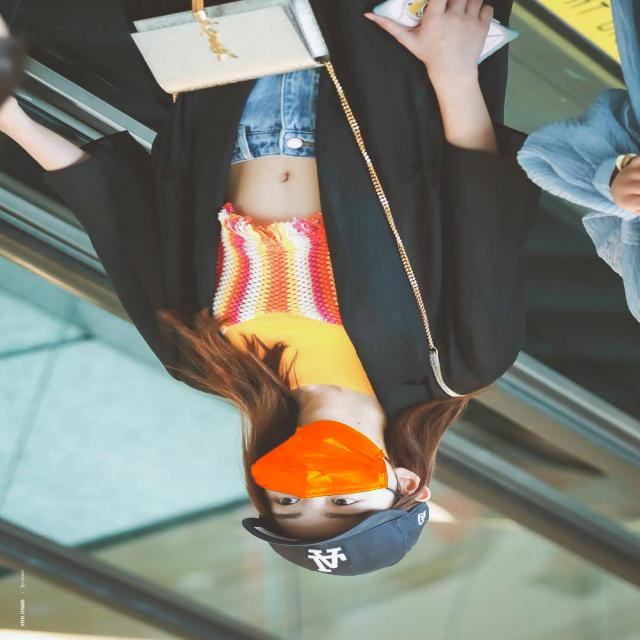Mask: (247, 418, 403, 501)
